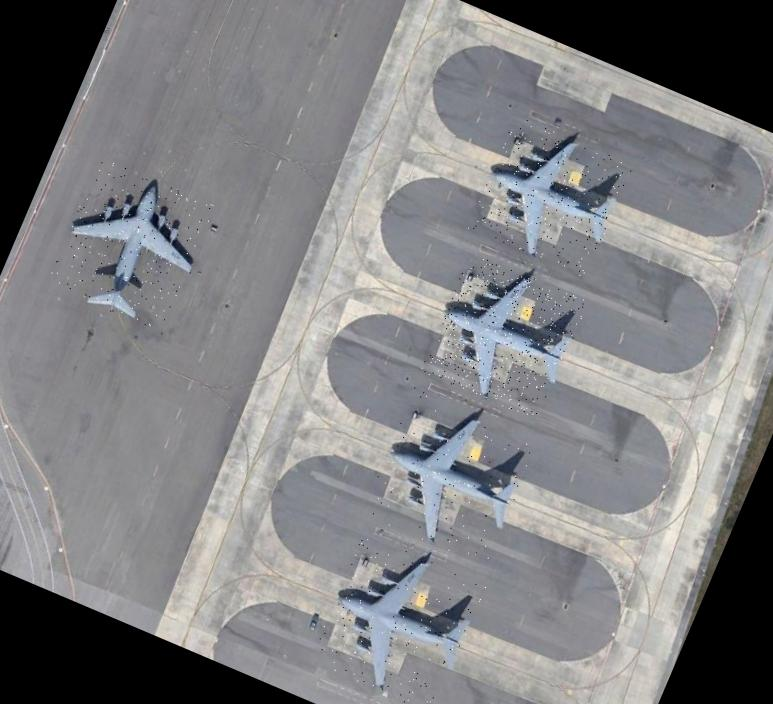A3: (360, 387, 539, 566), (44, 156, 218, 336), (307, 532, 486, 704), (419, 252, 588, 422), (467, 115, 633, 278)
